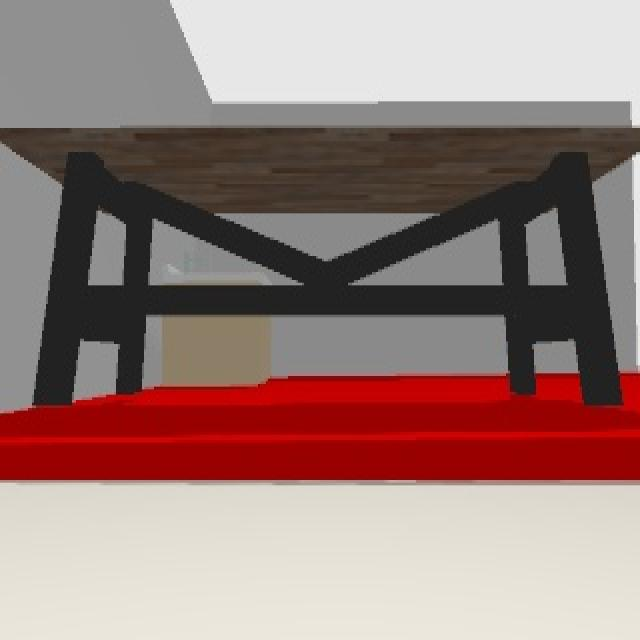dining: (3, 125, 640, 403)
